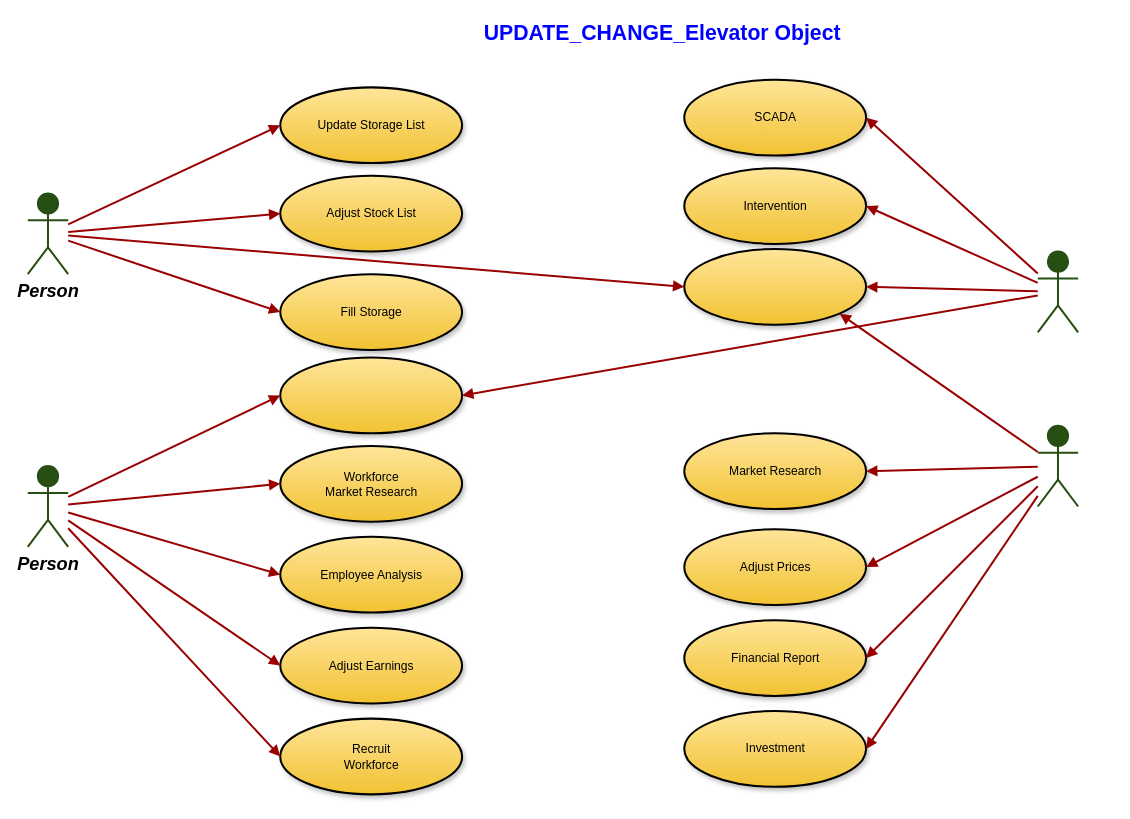
The diagram is 1130 pixels wide and 819 high, and some of its shapes have lost their labels. The shapes that lost their labels are listed below. From the top down, each one's centre as x and y in pixels, then its label:
At point (776, 287): "Form Order List".
At point (1057, 291): "Maintenance".
At point (372, 396): "Form Request Criteria".
At point (1057, 465): "Office of Sales".
